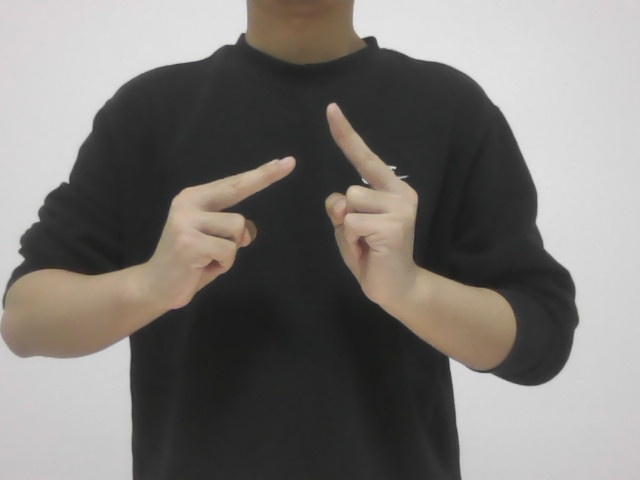know: (143, 88, 415, 325)
